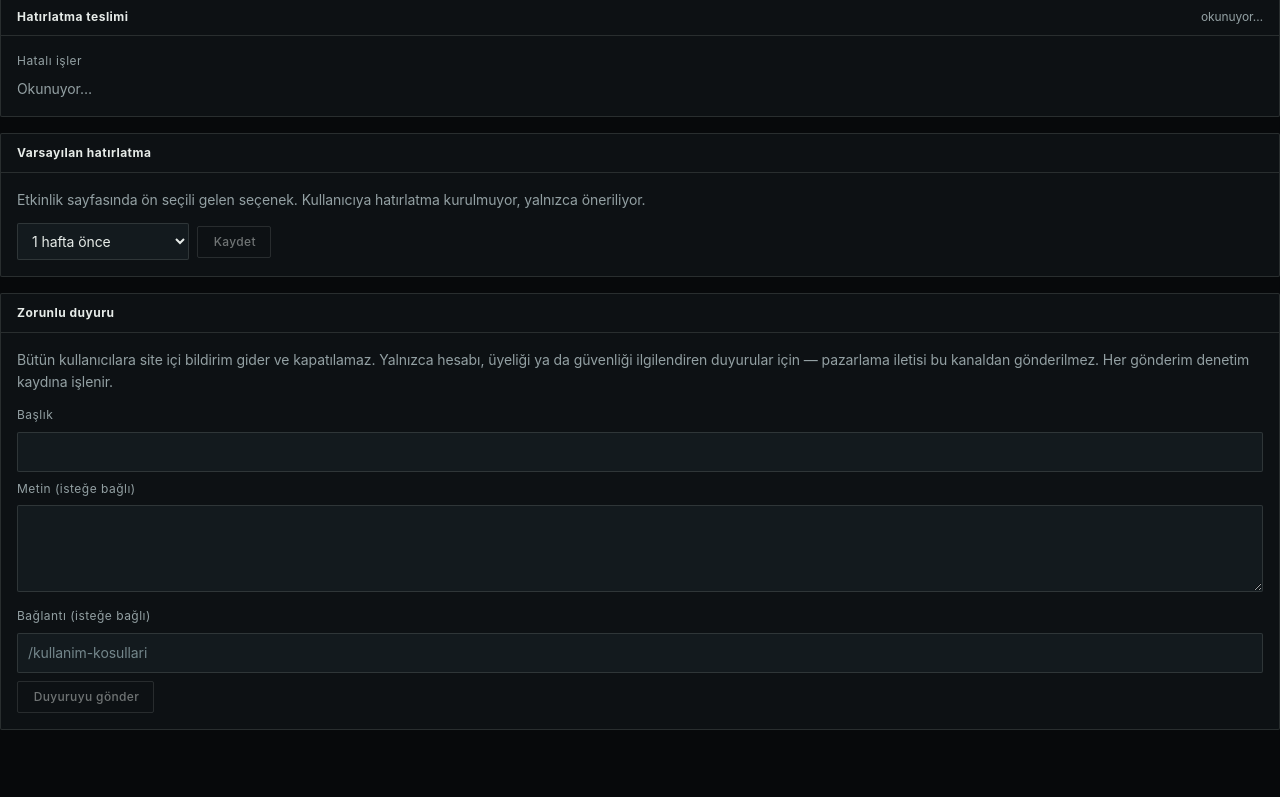
zorunlu duyuru › vazgeçilince gönderilmiyor
Type "Bir duyuru" into the field labelled "Başlık". click: {"x": 640, "y": 452}
box: [17,432,1263,472]
(page scrolled)
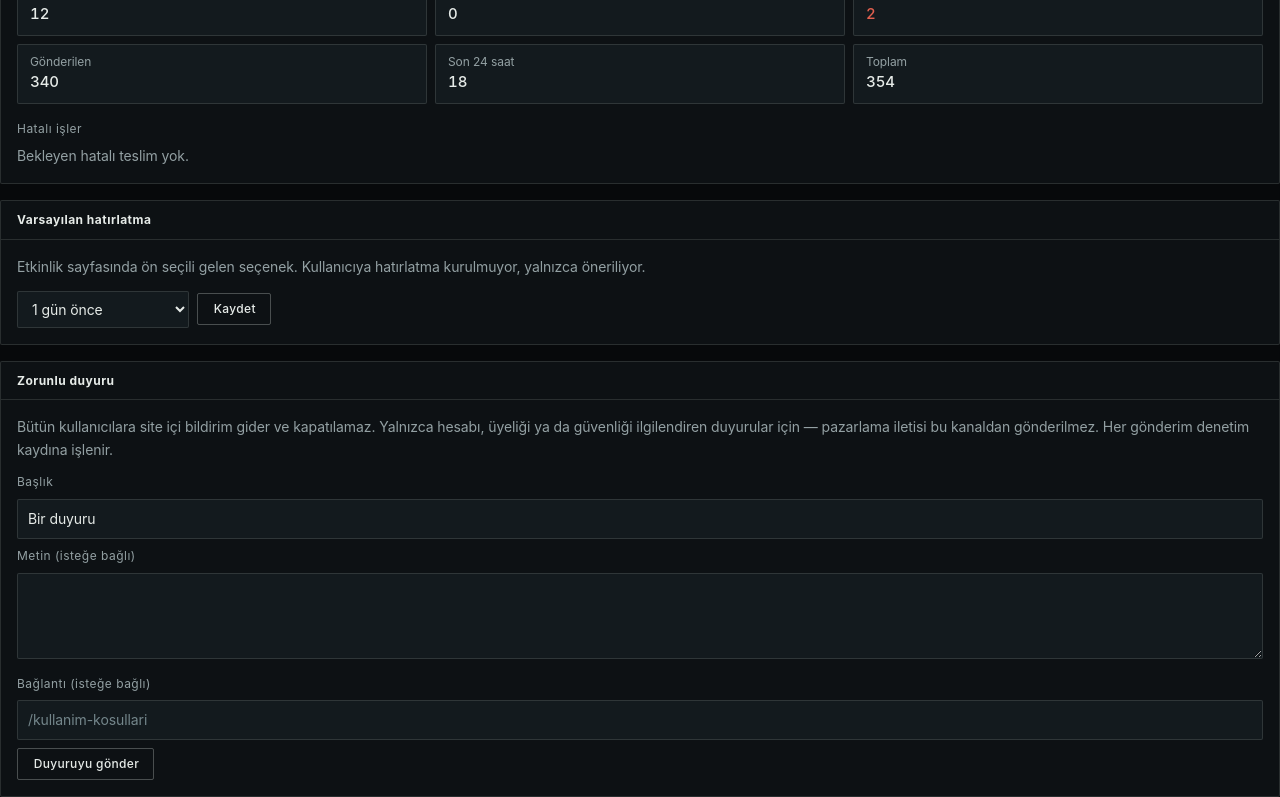
Click the button "Duyuruyu gönder". click: {"x": 86, "y": 764}
box: [17,748,154,780]
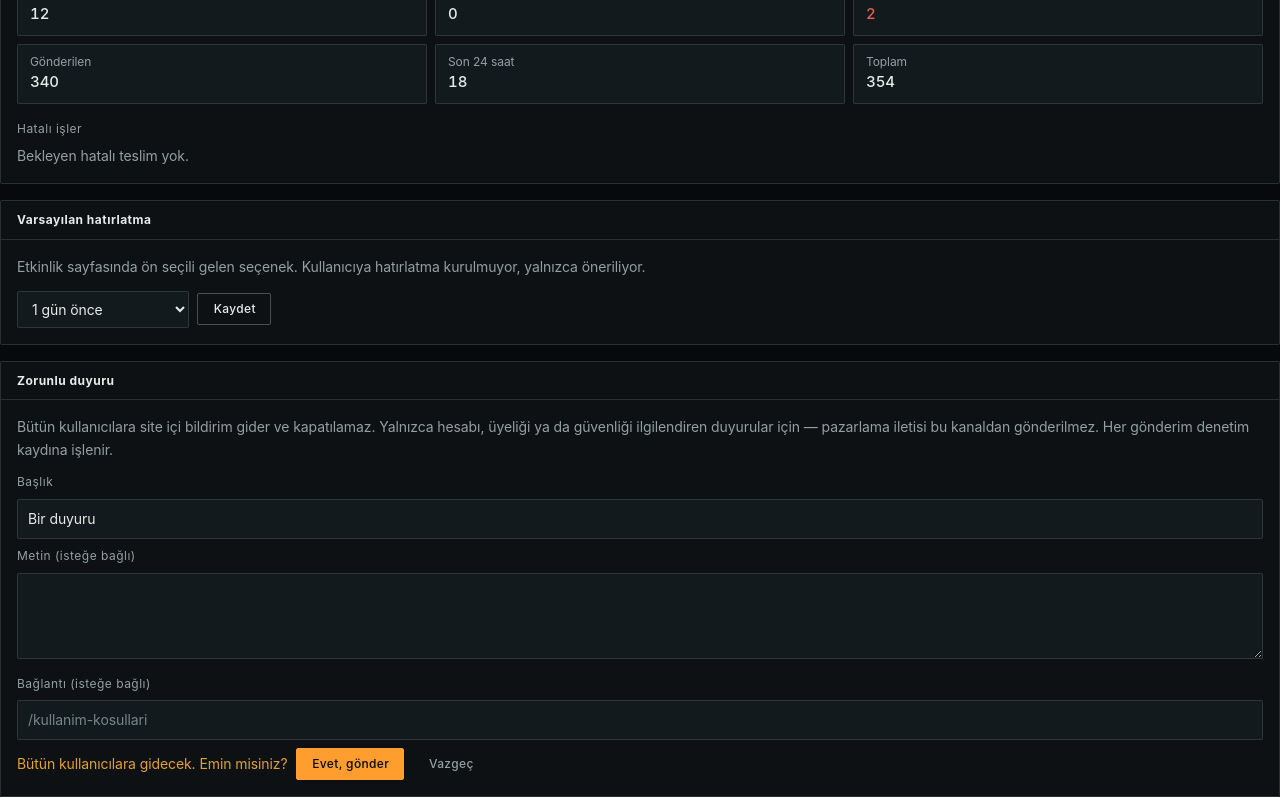
Click the button "Vazgeç". click: {"x": 450, "y": 764}
box: [412,748,489,780]
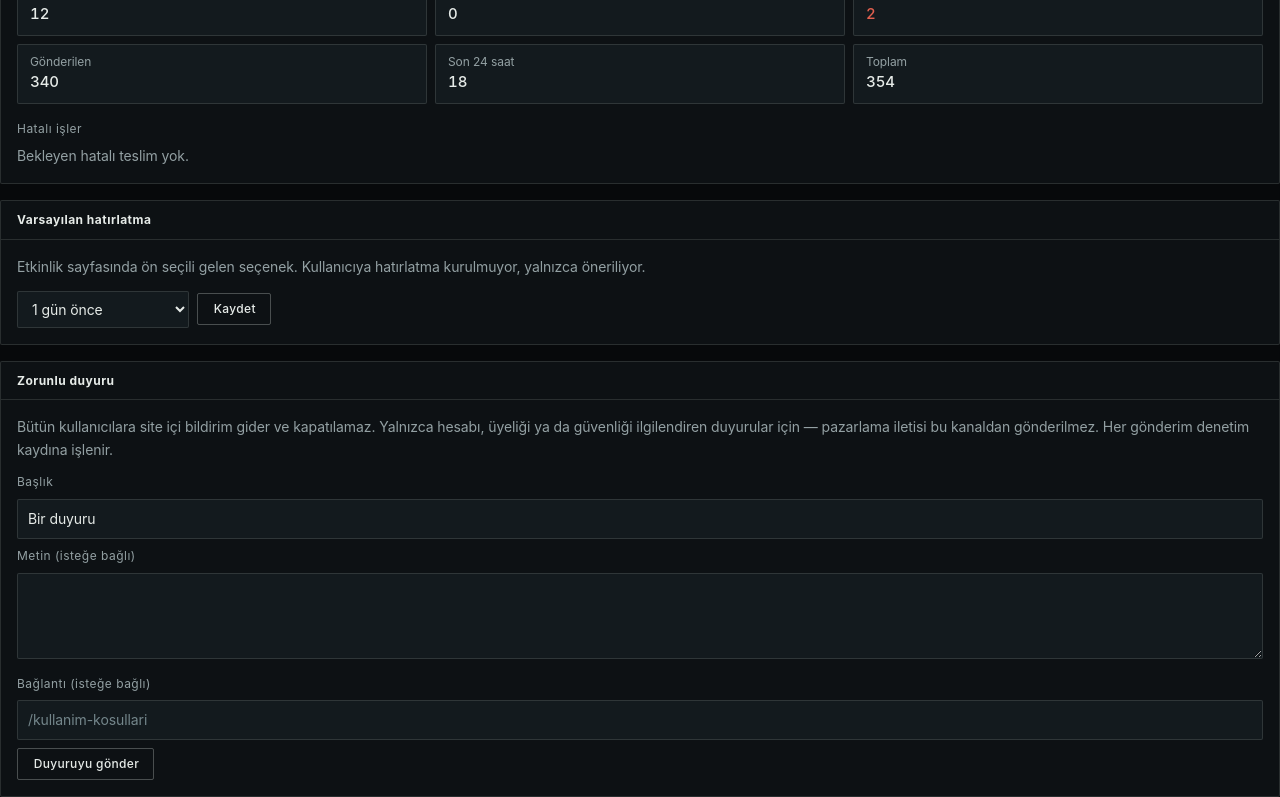
Now the button "Duyuruyu gönder" is shown, box [17,748,154,780]
